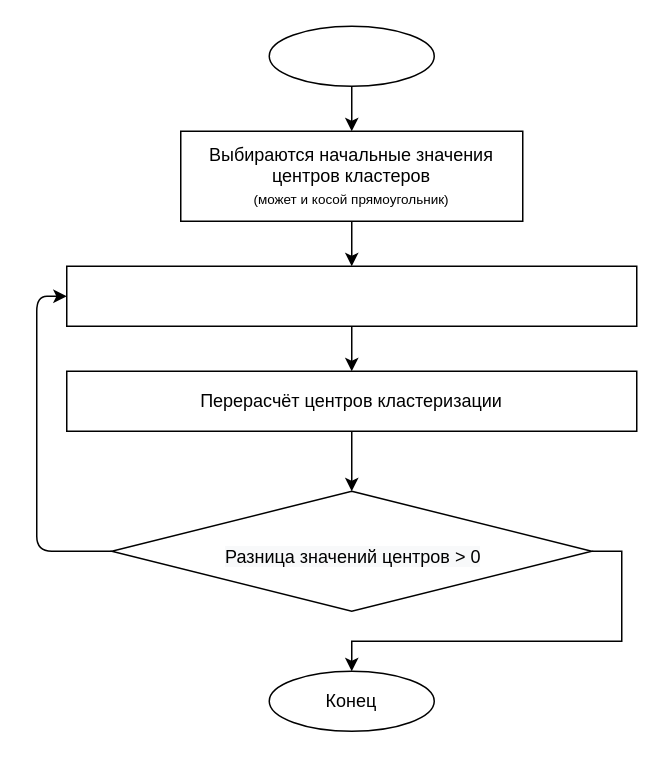
The diagram is 663 pixels wide and 758 high, and some of its shapes have lost their labels. The centre of each missing label's shape, as x and y in pixels:
Начало: pixel 351 55
Разбиение исходной выборки на кластеры по мере близости: pixel 351 295
